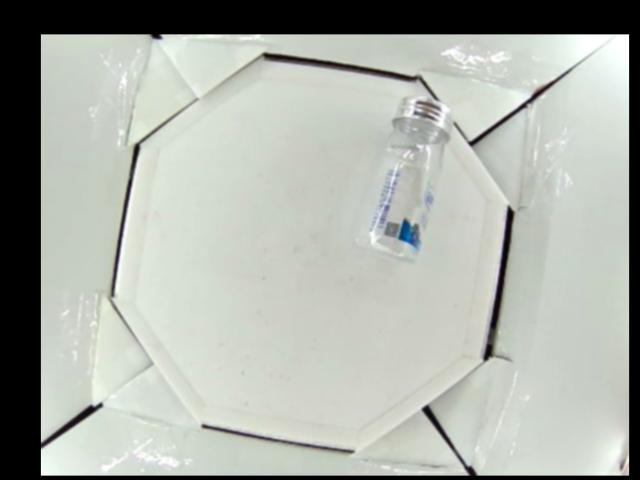Bottle: (356, 96, 451, 261)
